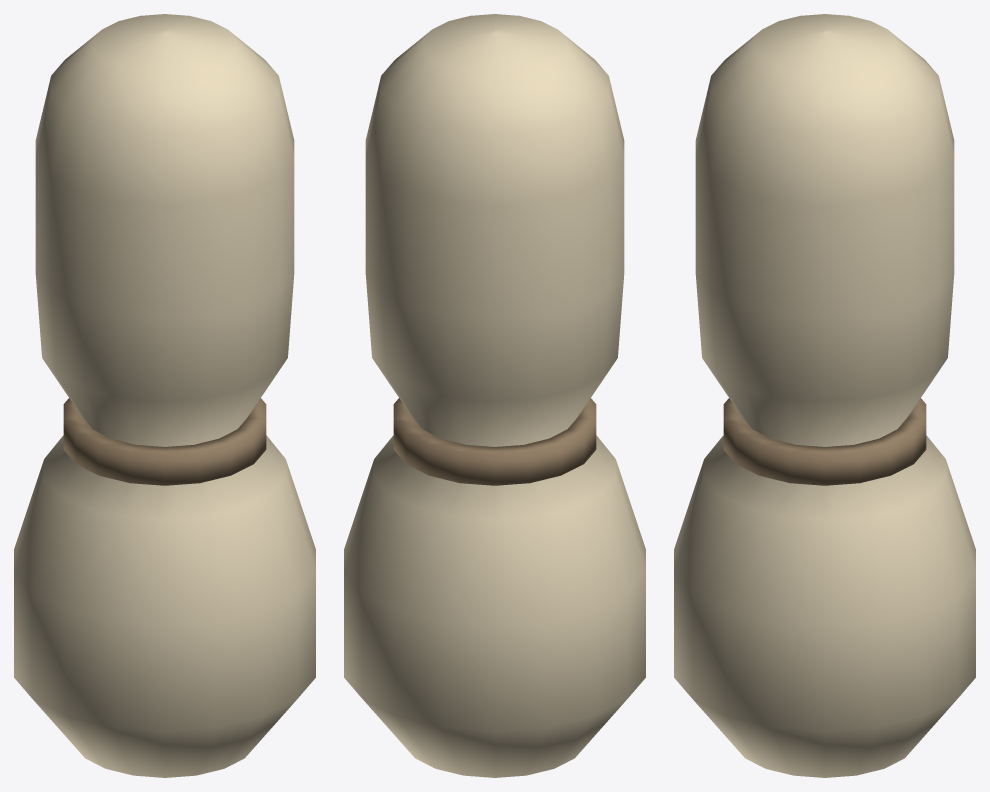
File: Cartridge.fbx
3 renders of one model, left to right at view 1: azimuth 30°, elevation 25°; view 2: azimuth 150°, elevation 25°; view 3: azimuth 270°, elevation 25°, orthographic.
Visible parts, largest first — view 1: cartridge_paper, cartridge_thread; view 2: cartridge_paper, cartridge_thread; view 3: cartridge_paper, cartridge_thread.
Boxes of the visible parts, x1,y1,x2,y2 form: cartridge_paper: [14, 14, 315, 777]; cartridge_thread: [63, 398, 266, 485]; cartridge_paper: [344, 14, 645, 777]; cartridge_thread: [393, 398, 596, 485]; cartridge_paper: [674, 14, 975, 777]; cartridge_thread: [723, 398, 926, 485].
Bounding box in the file's own units: 0.042 × 0.11 × 0.0414.
